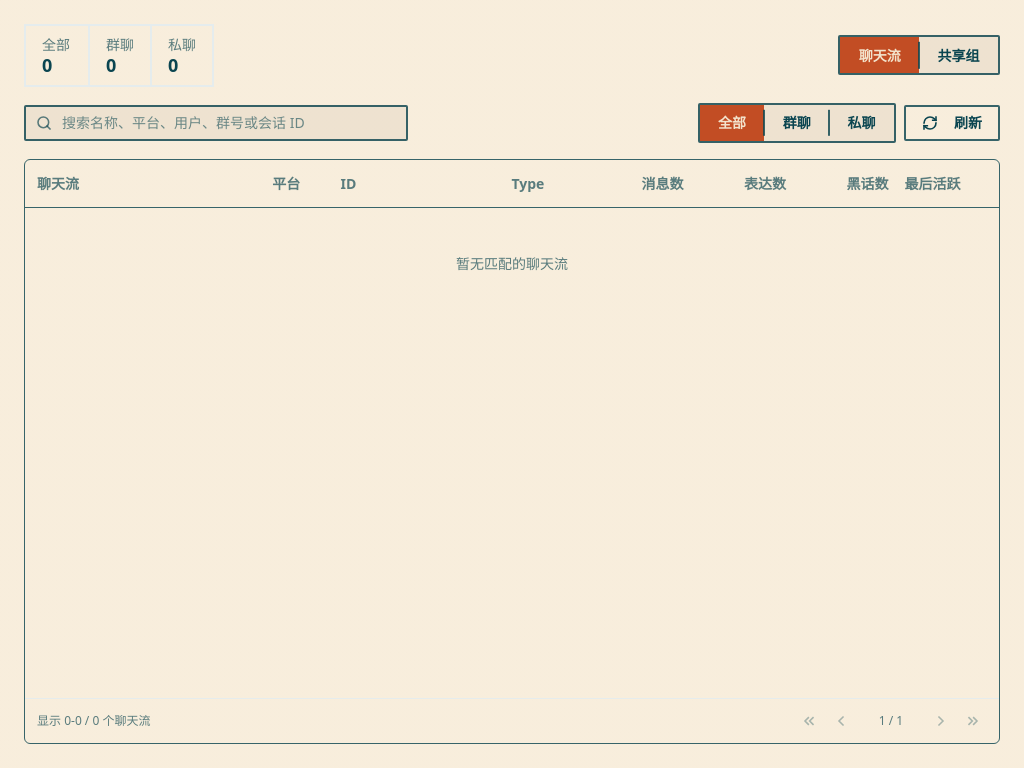
Test: ChatManagementPage 筛选与空态 › 空列表与无匹配搜索显示空态文案
The width and height of the screenshot is (1024, 768).
Expected: the text "暂无匹配的聊天流" is shown, [25,208,999,320]
Expected: the text "显示 0-0 / 0 个聊天流" is shown, [37,712,150,730]
Click the button "刷新" at [952, 123], box [904,105,1000,141]
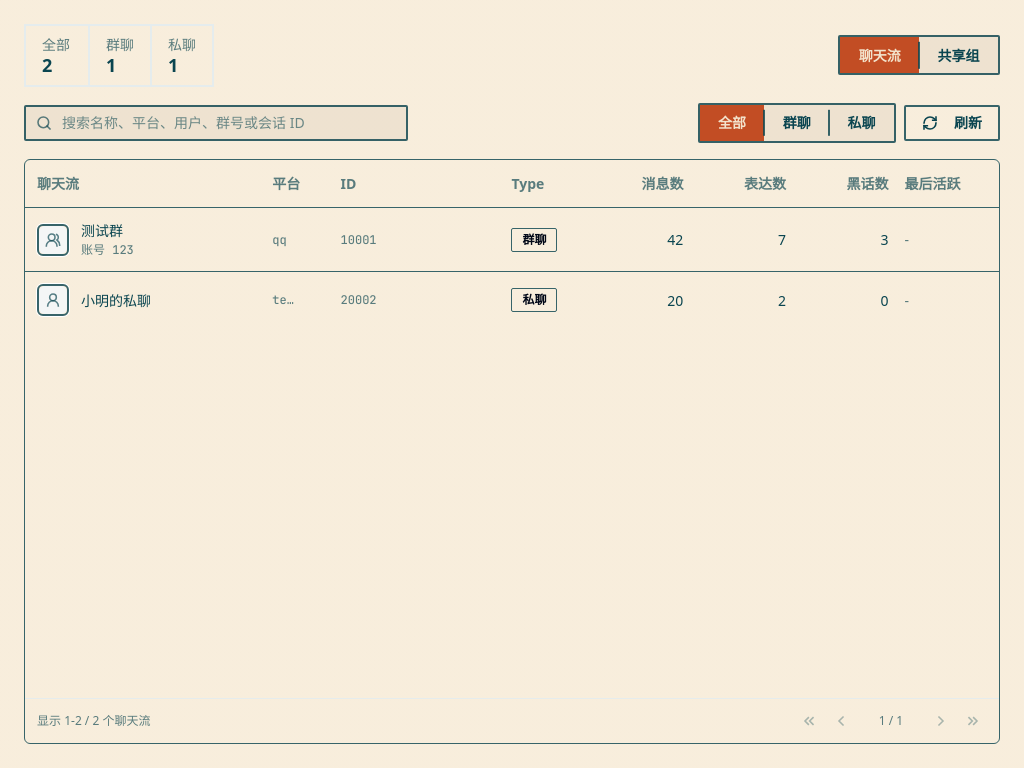
Now the text "显示 1-2 / 2 个聊天流" is shown, box [37,712,150,730]
Type "不存在的关键词" into the field with placeholder "搜索名称、平台、用户、群号或会话 ID" at [216, 123], box [24,105,408,141]
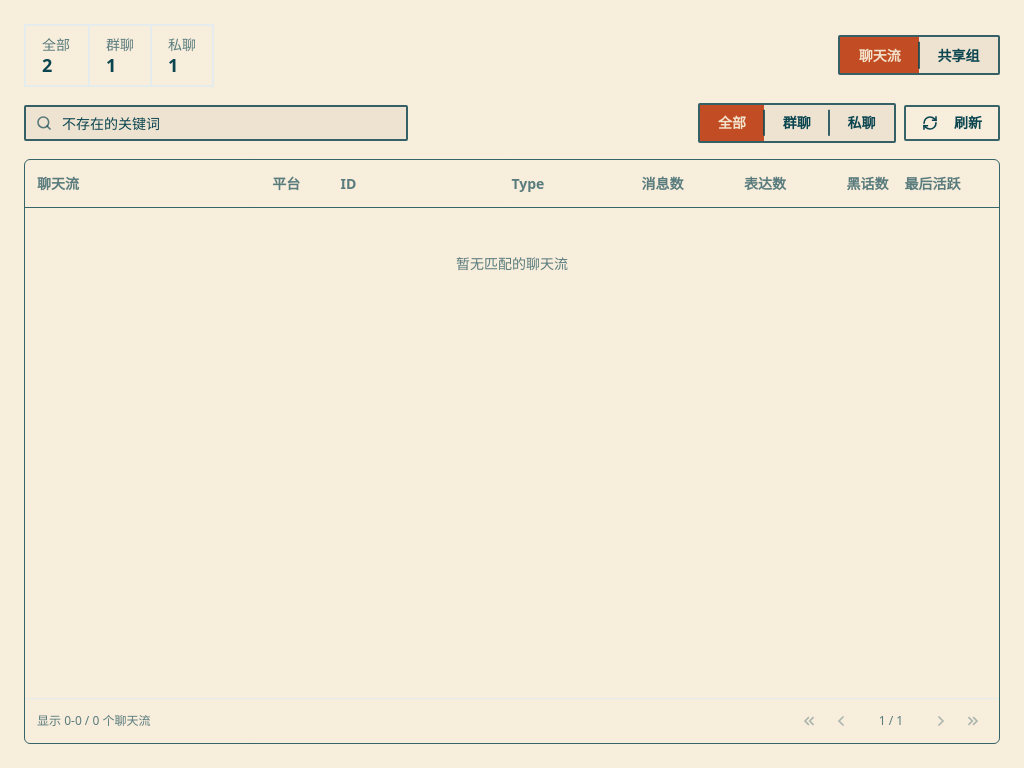
Now the text "暂无匹配的聊天流" is shown, box [25,208,999,320]
Now the text "显示 0-0 / 0 个聊天流" is shown, box [37,712,150,730]
